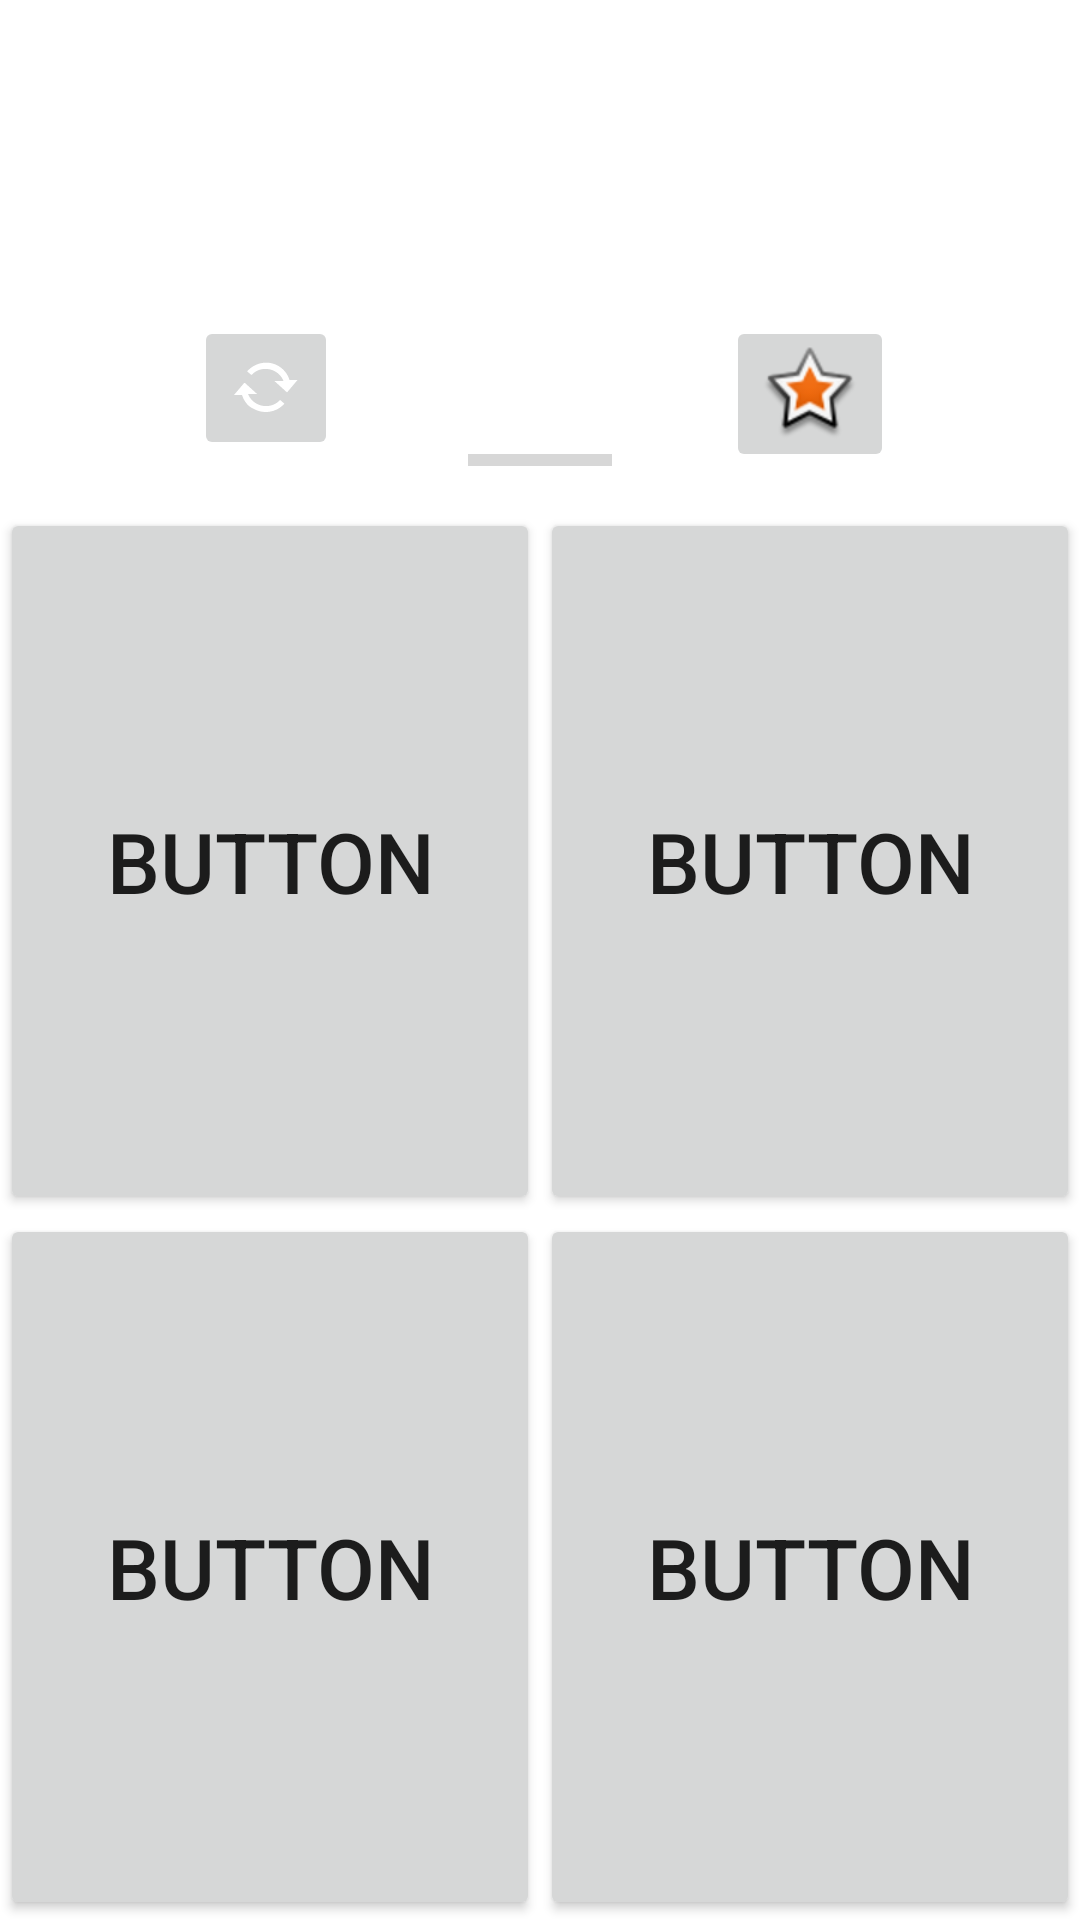

Icons on this 1080 x 1920 Android screen, each with its box as (left=x1, top=y1, right=x2, bottom=y2):
star on: (left=738, top=334, right=882, bottom=454)
sync: (left=206, top=334, right=326, bottom=442)
